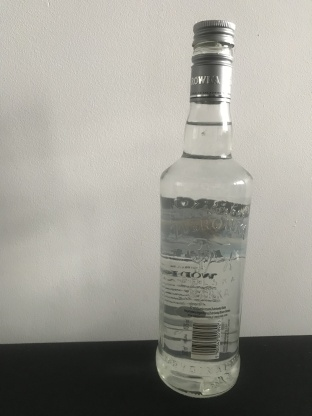nakretka: (188, 18, 236, 104)
